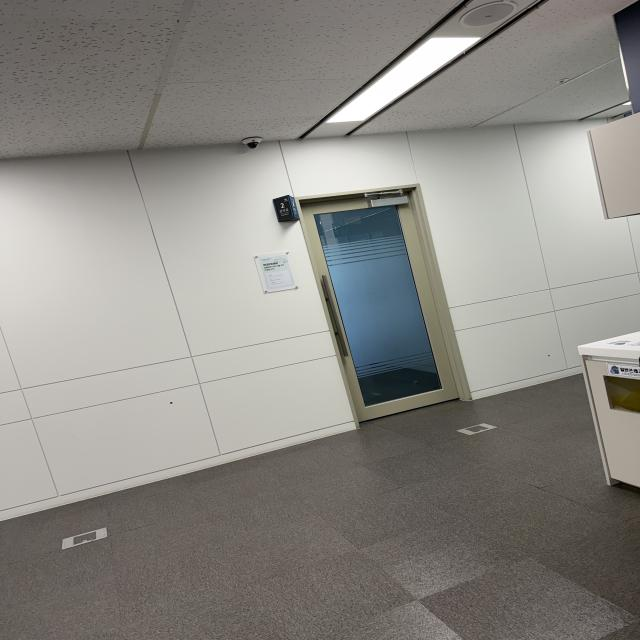room2: (272, 194, 295, 223)
